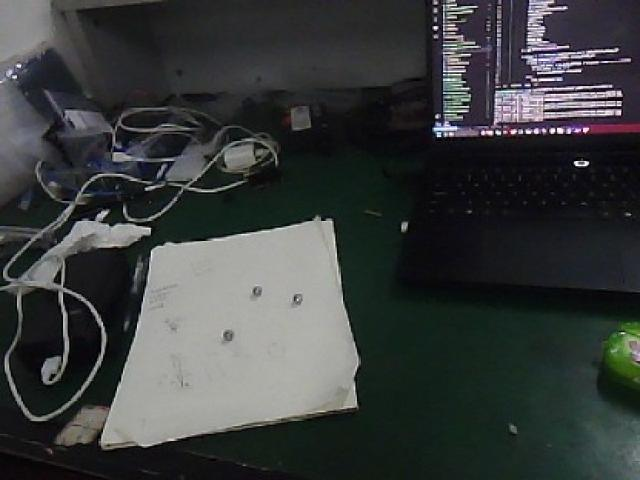steel-ball: (232, 266, 271, 309), (209, 318, 246, 354), (281, 281, 314, 314)
